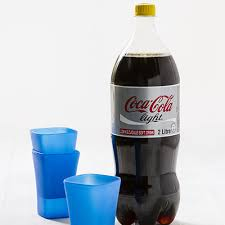coke: (117, 7, 182, 223)
